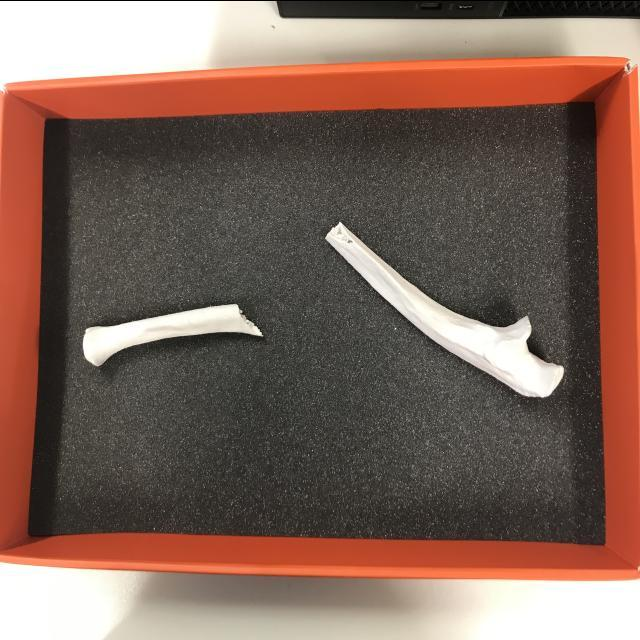bone: (328, 221, 566, 399), (80, 298, 266, 376)
